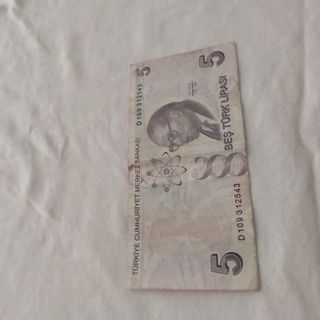5TLBack: (126, 41, 261, 292)
